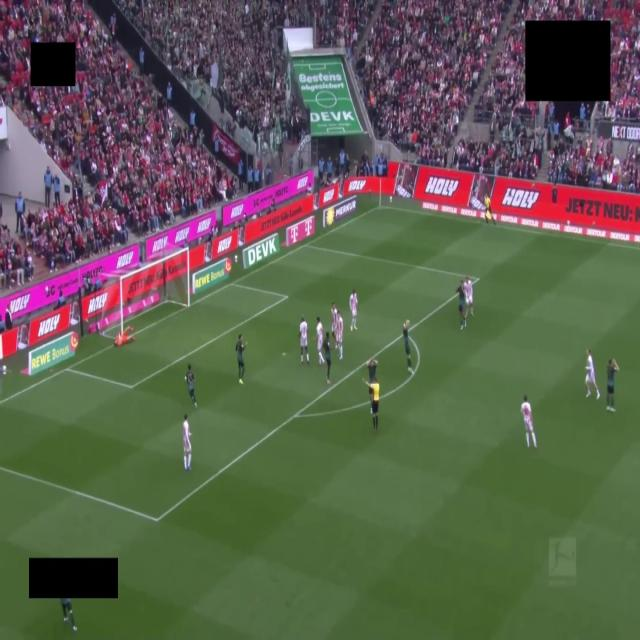player: (521, 395, 536, 447), (585, 350, 600, 399), (607, 359, 619, 412), (235, 334, 246, 384), (403, 320, 413, 374), (185, 365, 197, 407), (456, 280, 466, 329), (61, 599, 76, 631), (299, 317, 309, 364), (183, 415, 191, 471), (114, 327, 135, 346), (335, 311, 343, 359), (323, 332, 330, 383), (464, 277, 473, 315), (317, 317, 324, 365), (349, 289, 357, 330), (367, 358, 377, 384), (331, 303, 337, 339)
referee: (363, 379, 379, 433)
